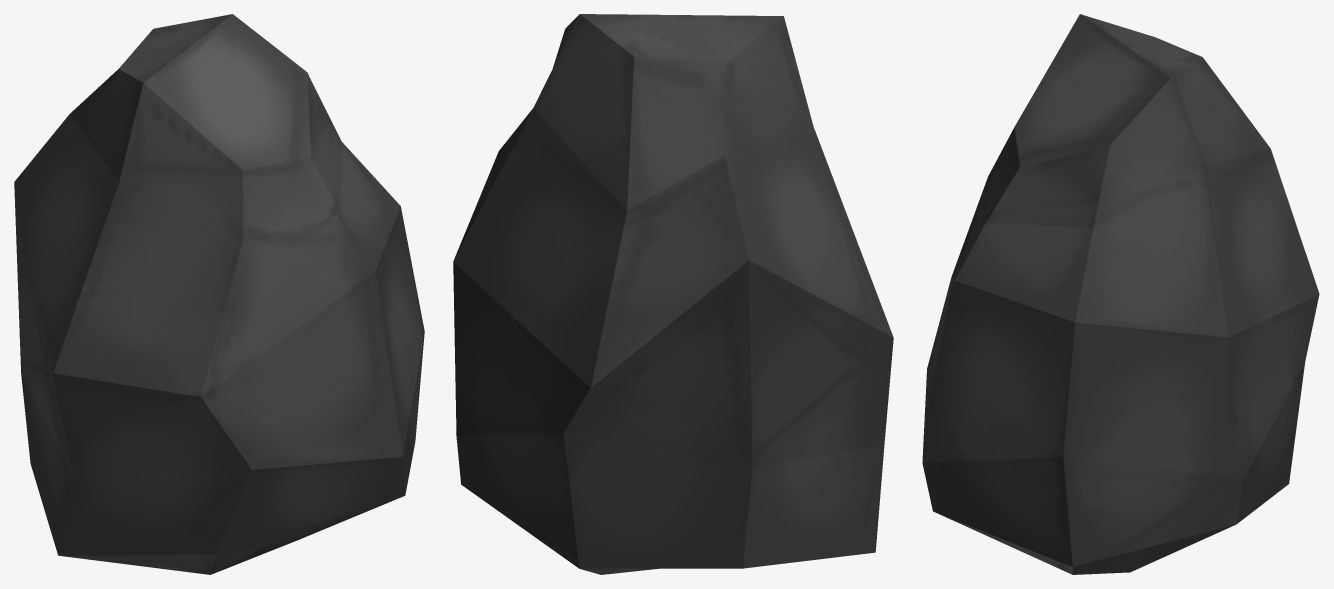
Rendered from Rock2.fbx.
3 renders of one model, left to right at view 1: azimuth 30°, elevation 25°; view 2: azimuth 150°, elevation 25°; view 3: azimuth 270°, elevation 25°, orthographic. The views are drawn at different scales.
Visible parts, largest first — view 1: Rock; view 2: Rock; view 3: Rock.
Part boxes in pixels (x1,y1,x2,y2): Rock: (14, 14, 424, 574); Rock: (453, 14, 893, 574); Rock: (922, 14, 1319, 574).
Bounding box in the file's own units: 2.1 × 2.6 × 1.97.
